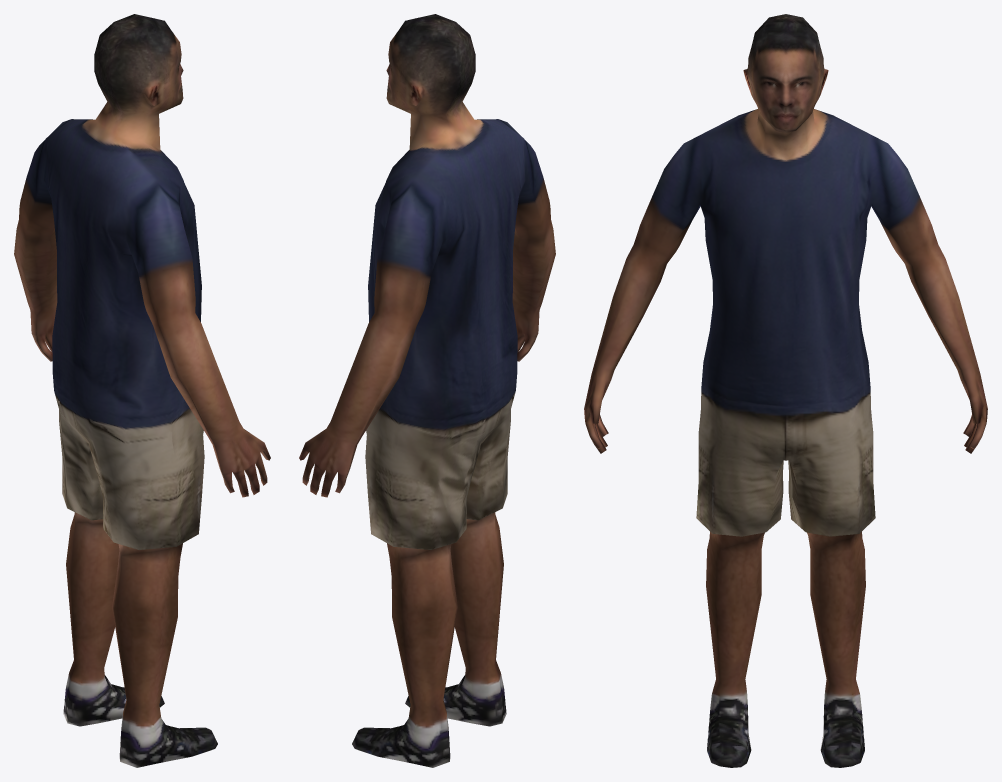
The model's file is Character_Male_54.fbx.
The picture shows the model from 3 angles, left to right: view 1: azimuth 30°, elevation 25°; view 2: azimuth 150°, elevation 25°; view 3: azimuth 270°, elevation 25°; orthographic projection.
Visible parts, largest first — view 1: Character_Male_54; view 2: Character_Male_54; view 3: Character_Male_54.
Part boxes in pixels (<box>): Character_Male_54: <box>14,14,270,767</box>; Character_Male_54: <box>299,14,555,767</box>; Character_Male_54: <box>584,14,987,767</box>.
Size of the model in its own units: 0.3123 by 1.74 by 0.8823.
